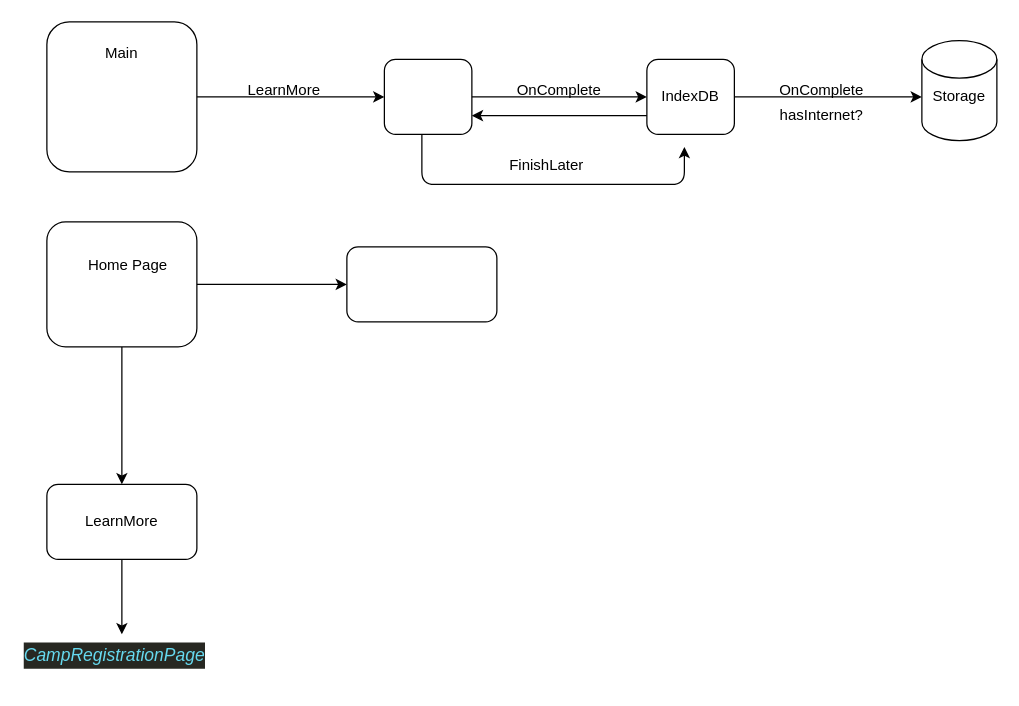
Some shapes in this 1019 by 706 pixel diagram are drawn without their labels. Here are the shapes that lost their labels. From the top down, the box of each, then its label:
(383, 58, 472, 134): Form
(346, 246, 497, 322): Navigation
